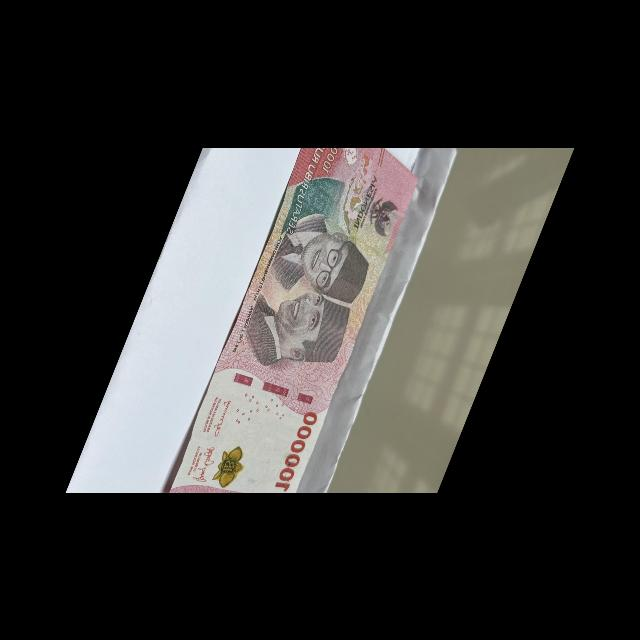Palsu-100k: (163, 132, 422, 538)
Tinta-Palsu-100k: (207, 438, 253, 494)
